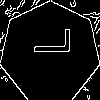L: (25, 27, 69, 55)
